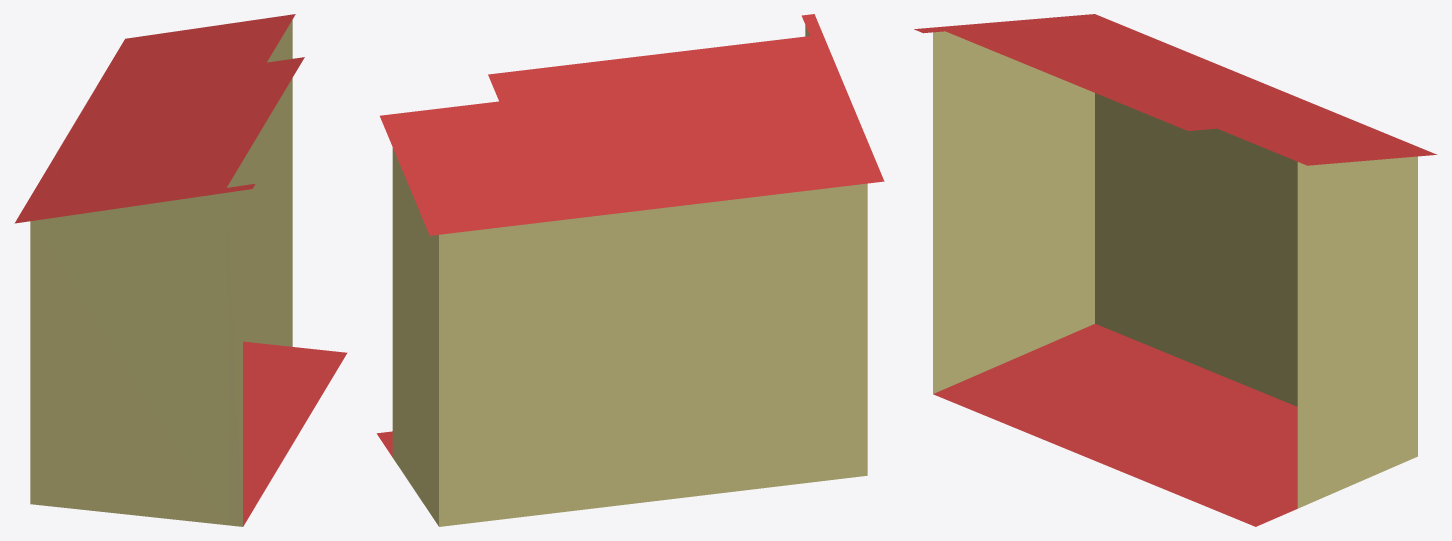
The picture shows the model from 3 angles, left to right: view 1: azimuth 30°, elevation 25°; view 2: azimuth 150°, elevation 25°; view 3: azimuth 270°, elevation 25°; orthographic projection. The views are drawn at different scales.
Size of the model in its own units: 9.15 by 9.58 by 7.36.
